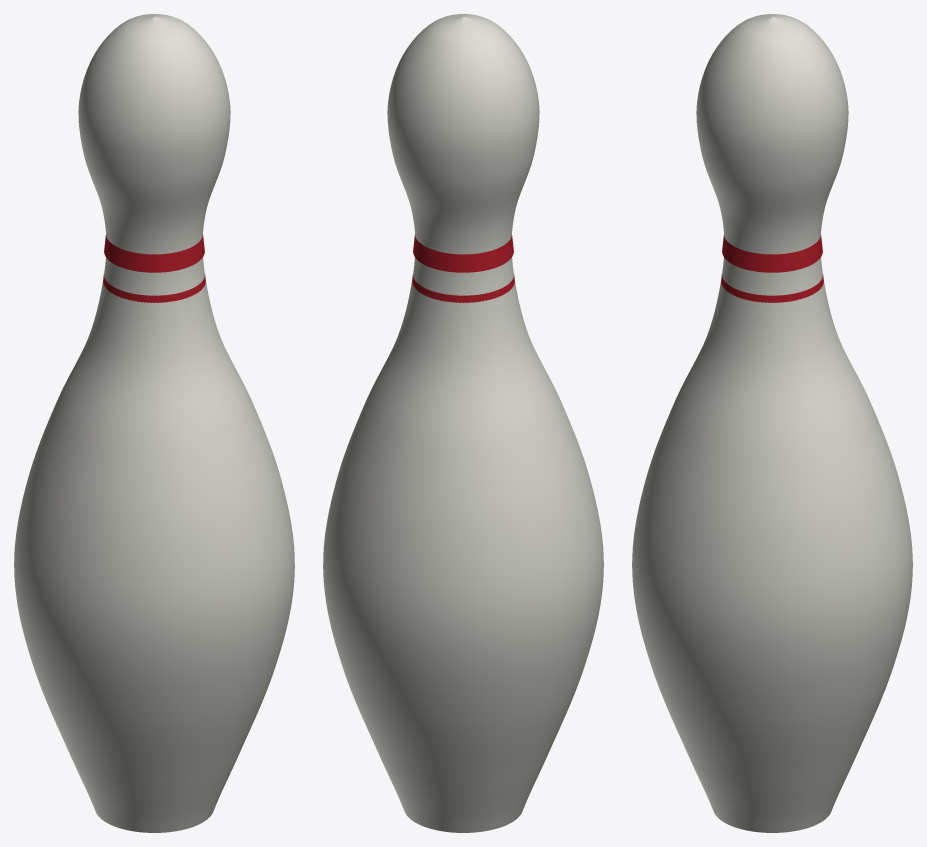
File: tournament-pin.glb
The picture shows the model from 3 angles, left to right: view 1: azimuth 30°, elevation 25°; view 2: azimuth 150°, elevation 25°; view 3: azimuth 270°, elevation 25°; orthographic projection.
Visible parts, largest first — view 1: Pin enamel, Red neck bands; view 2: Pin enamel, Red neck bands; view 3: Pin enamel, Red neck bands.
Boxes of the visible parts, x1,y1,x2,y2 form: Pin enamel: [14, 14, 294, 832]; Red neck bands: [103, 235, 205, 302]; Pin enamel: [323, 14, 603, 832]; Red neck bands: [412, 235, 514, 302]; Pin enamel: [632, 14, 912, 832]; Red neck bands: [721, 235, 823, 302].
Bounding box in the file's own units: 0.1226 × 0.381 × 0.1226.
